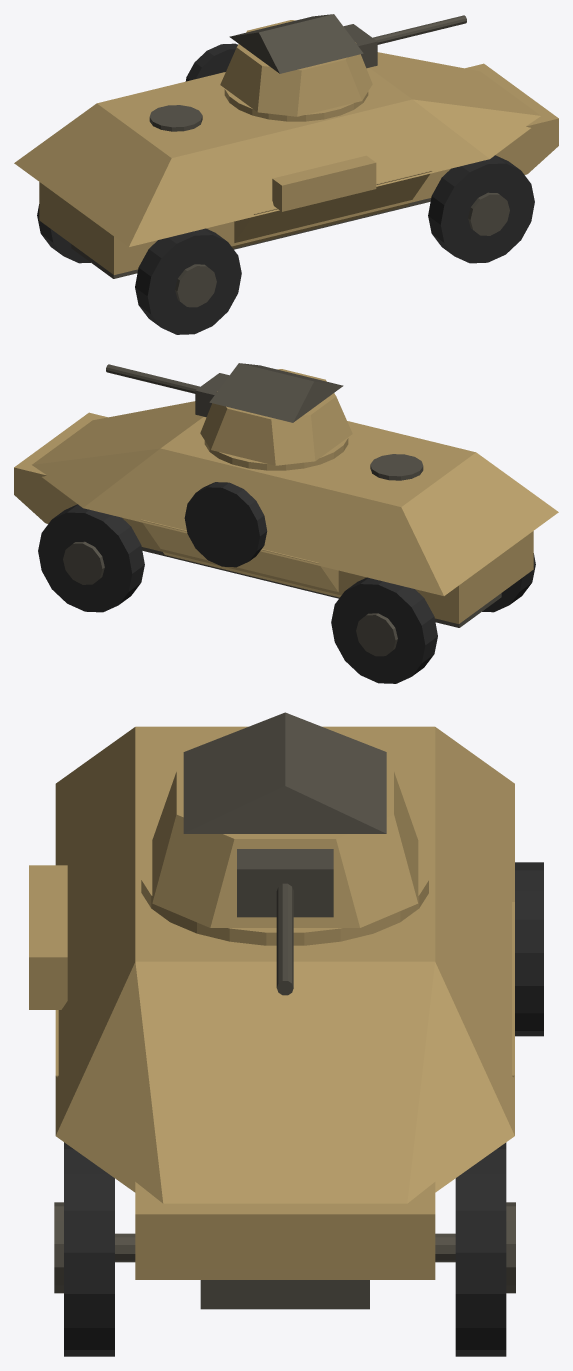
Rendered from de_sdkfz_222.obj.
3 views of the same model, one above another, from view 1: azimuth 30°, elevation 25°; view 2: azimuth 150°, elevation 25°; view 3: azimuth 270°, elevation 25° (orthographic). The views are drawn at different scales.
Size of the model in its own units: 4.3 by 2.12 by 2.13.
